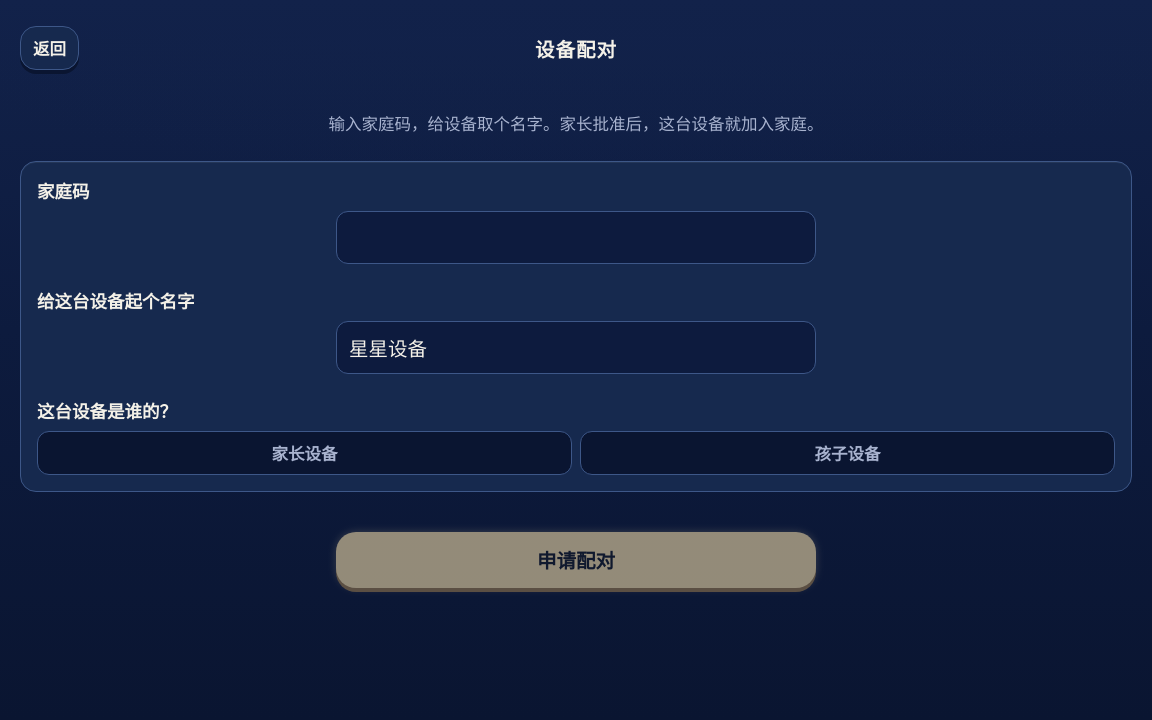
#192 双因子：家长角色选填家庭口令（孩子角色构造上无此输入） › 口令输入框只在家长角色出现：初始未选/孩子角色均无，选家长才出现
What coordinates should you click on to do the following:
click the radio button with class "star-segment-tabs__item" showing "孩子设备"
I would click on:
 (848, 453)
Its box is [580,431,1115,475].
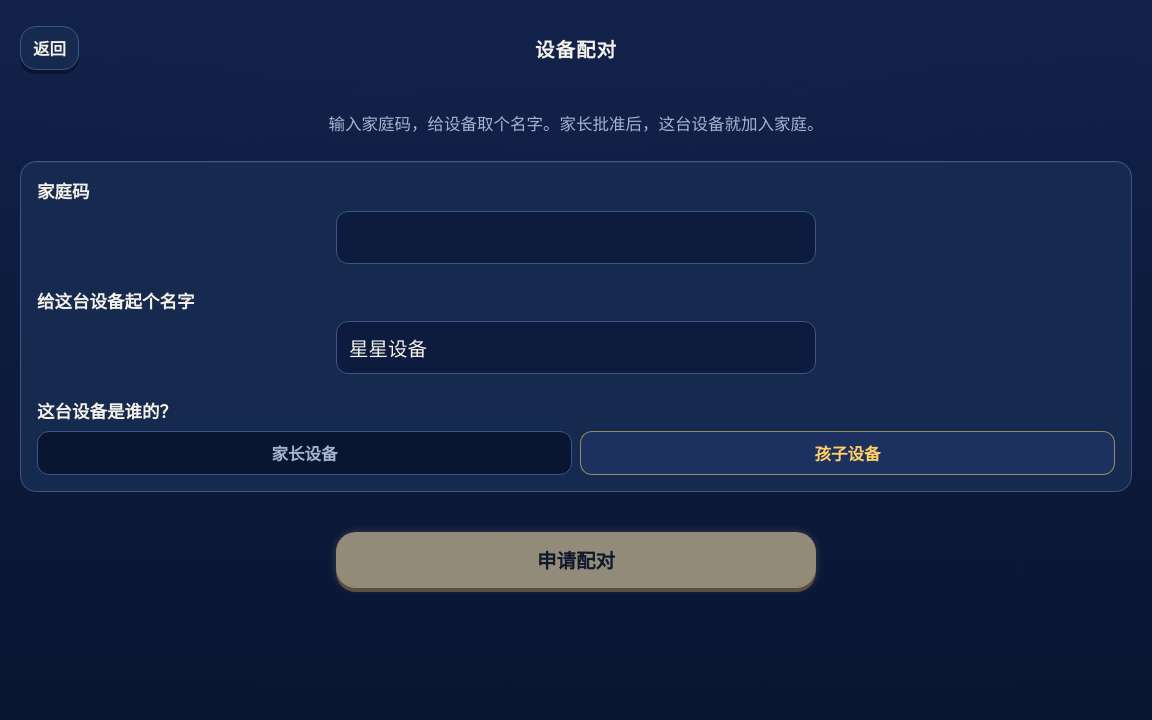
What coordinates should you click on to do the following:
click the radio button with class "star-segment-tabs__item" showing "家长设备"
I would click on:
 (304, 453)
Its box is [37,431,572,475].
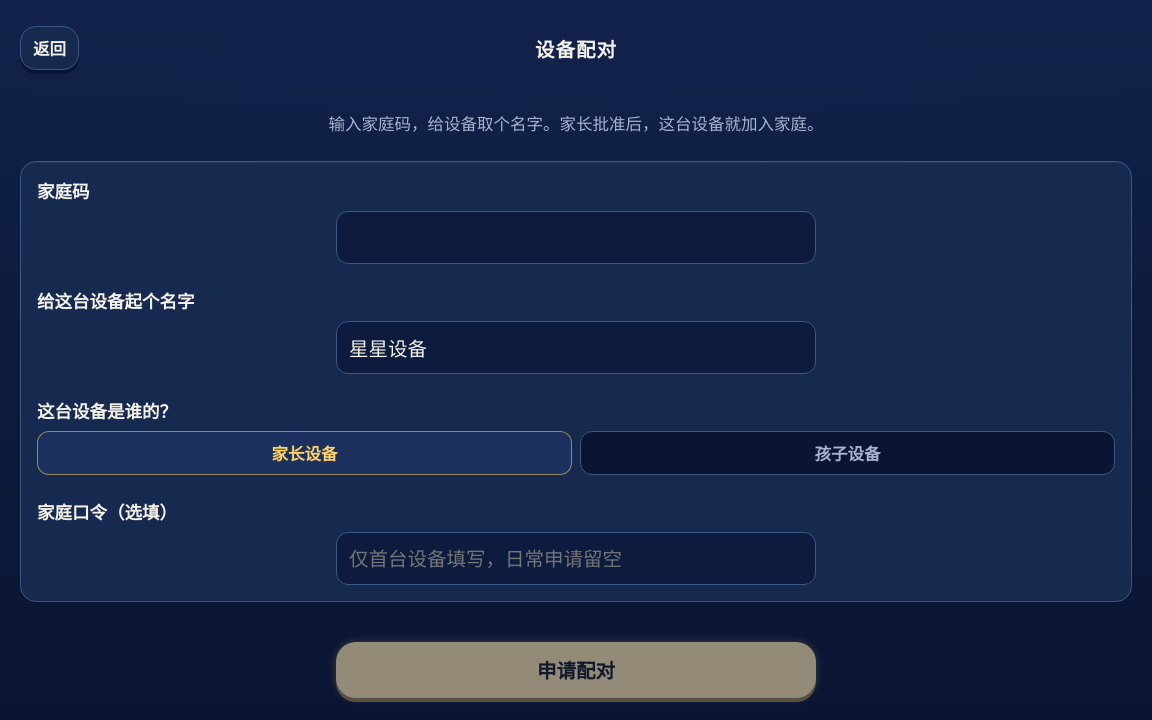
Check: the field labelled "家庭口令（选填）" is shown, box [336,532,816,585]
